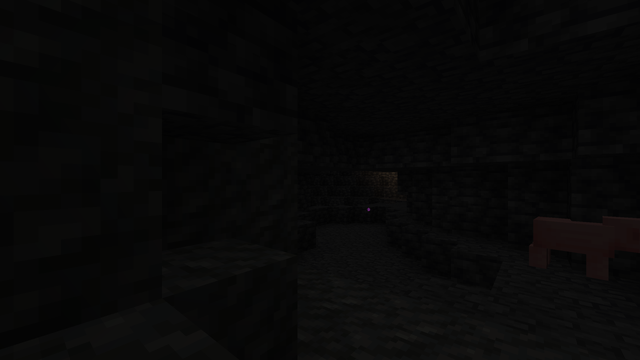cochons: (538, 214, 614, 282)
